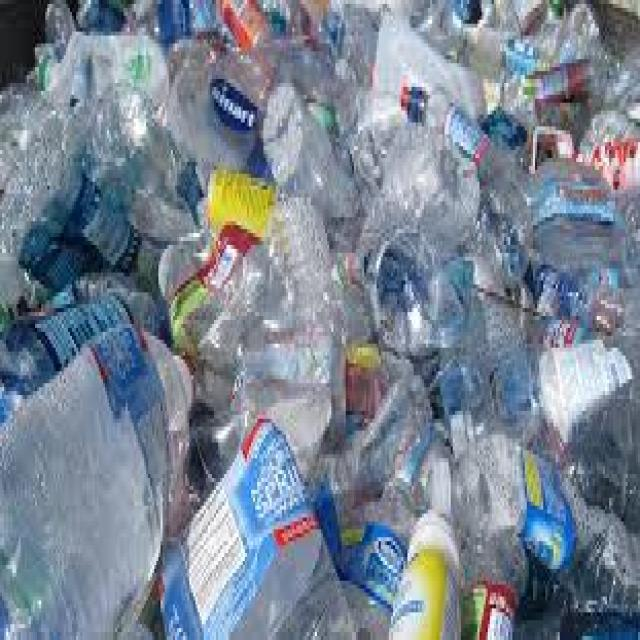heap: (33, 24, 620, 640)
